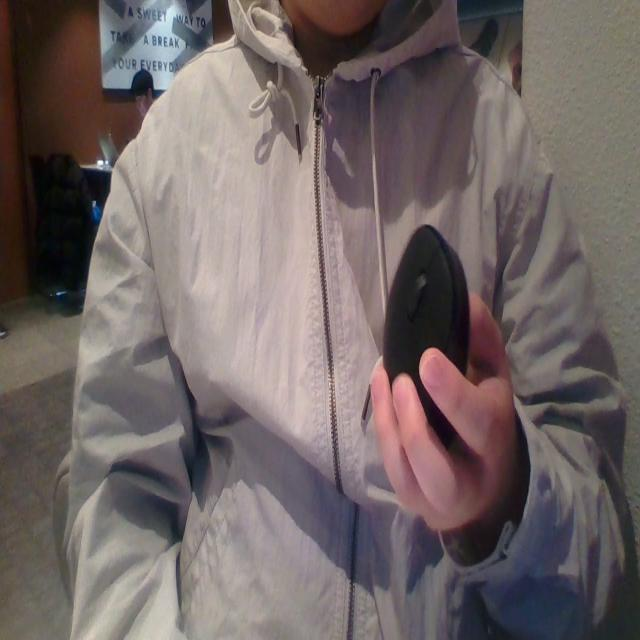grab_mouse: (366, 215, 517, 563)
mouse: (384, 208, 470, 462)
